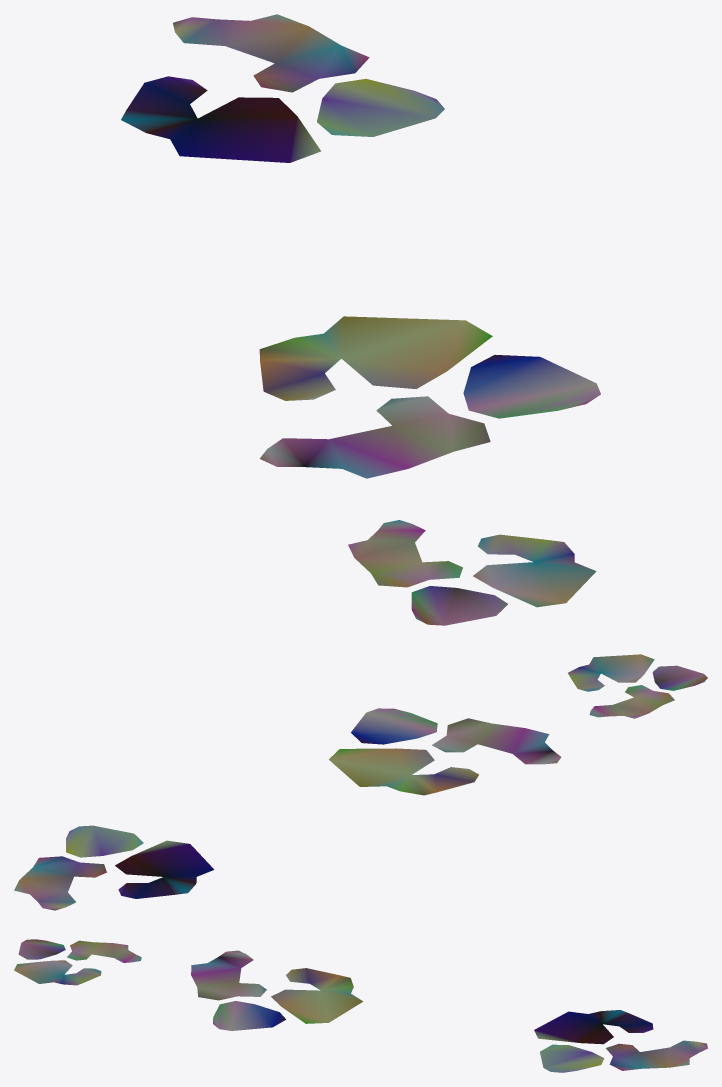
File: Woods_LilyPads_CMB.gltf
3 views of the same model, one above another, from view 1: azimuth 30°, elevation 25°; view 2: azimuth 150°, elevation 25°; view 3: azimuth 270°, elevation 25° (orthographic). The views are drawn at different scales.
Visible parts, largest first — view 1: Woods_LilyPads_CMB; view 2: Woods_LilyPads_CMB; view 3: Woods_LilyPads_CMB.
Boxes of the visible parts, left/top/right/bottom form: Woods_LilyPads_CMB: left=121, top=14, right=600, bottom=625; Woods_LilyPads_CMB: left=14, top=654, right=707, bottom=910; Woods_LilyPads_CMB: left=14, top=939, right=707, bottom=1072.
Size of the model in its own units: 89.47 by 0 by 196.
